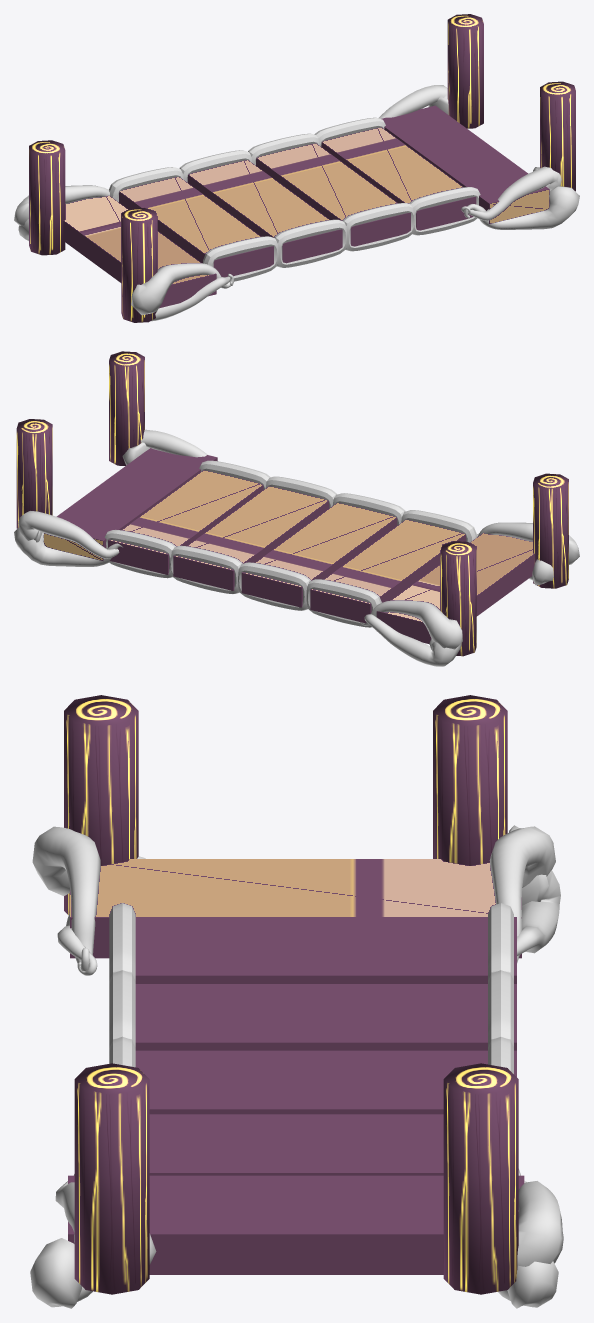
File: SapanWithColor.fbx
3 renders of one model, top to bottom at view 1: azimuth 30°, elevation 25°; view 2: azimuth 150°, elevation 25°; view 3: azimuth 270°, elevation 25°, orthographic. The views are drawn at different scales.
Parts seen in each view (by area): view 1: Plane.002, Plane.003, Plane.005, Plane.006, Plane.004, Plane.007, Cylinder.001, Cylinder.003; view 2: Plane.002, Plane.003, Plane.005, Plane.004, Plane.006, Plane.007, Cylinder.003, Cylinder.001; view 3: Plane.002, Plane.003, Cylinder.003, Plane.004, Plane.005, Cylinder.001, Plane.006, Plane.007.
Boxes of the visible parts, x1=… form: Plane.002: x1=378, y1=85, x2=579, y2=229; Plane.003: x1=14, y1=185, x2=233, y2=321; Plane.005: x1=179, y1=150, x2=346, y2=267; Plane.006: x1=248, y1=133, x2=414, y2=251; Plane.004: x1=109, y1=167, x2=278, y2=281; Plane.007: x1=314, y1=117, x2=480, y2=235; Cylinder.001: x1=29, y1=140, x2=157, y2=322; Cylinder.003: x1=447, y1=14, x2=575, y2=191; Plane.002: x1=14, y1=429, x2=217, y2=566; Plane.003: x1=360, y1=522, x2=579, y2=666; Plane.005: x1=238, y1=493, x2=405, y2=610; Plane.004: x1=306, y1=510, x2=476, y2=627; Plane.006: x1=171, y1=476, x2=337, y2=593; Plane.007: x1=104, y1=460, x2=270, y2=578; Cylinder.003: x1=16, y1=351, x2=144, y2=528; Cylinder.001: x1=440, y1=473, x2=568, y2=656; Plane.002: x1=30, y1=1169, x2=563, y2=1308; Plane.003: x1=32, y1=825, x2=560, y2=975; Cylinder.003: x1=74, y1=1063, x2=518, y2=1294; Plane.004: x1=109, y1=903, x2=516, y2=983; Plane.005: x1=109, y1=970, x2=516, y2=1050; Cylinder.001: x1=64, y1=695, x2=507, y2=915; Plane.006: x1=109, y1=1036, x2=516, y2=1114; Plane.007: x1=149, y1=1114, x2=443, y2=1175.
Bounding box in the file's own units: 3944 × 1052 × 2003.
Materials: 3 (2 with a texture image).
